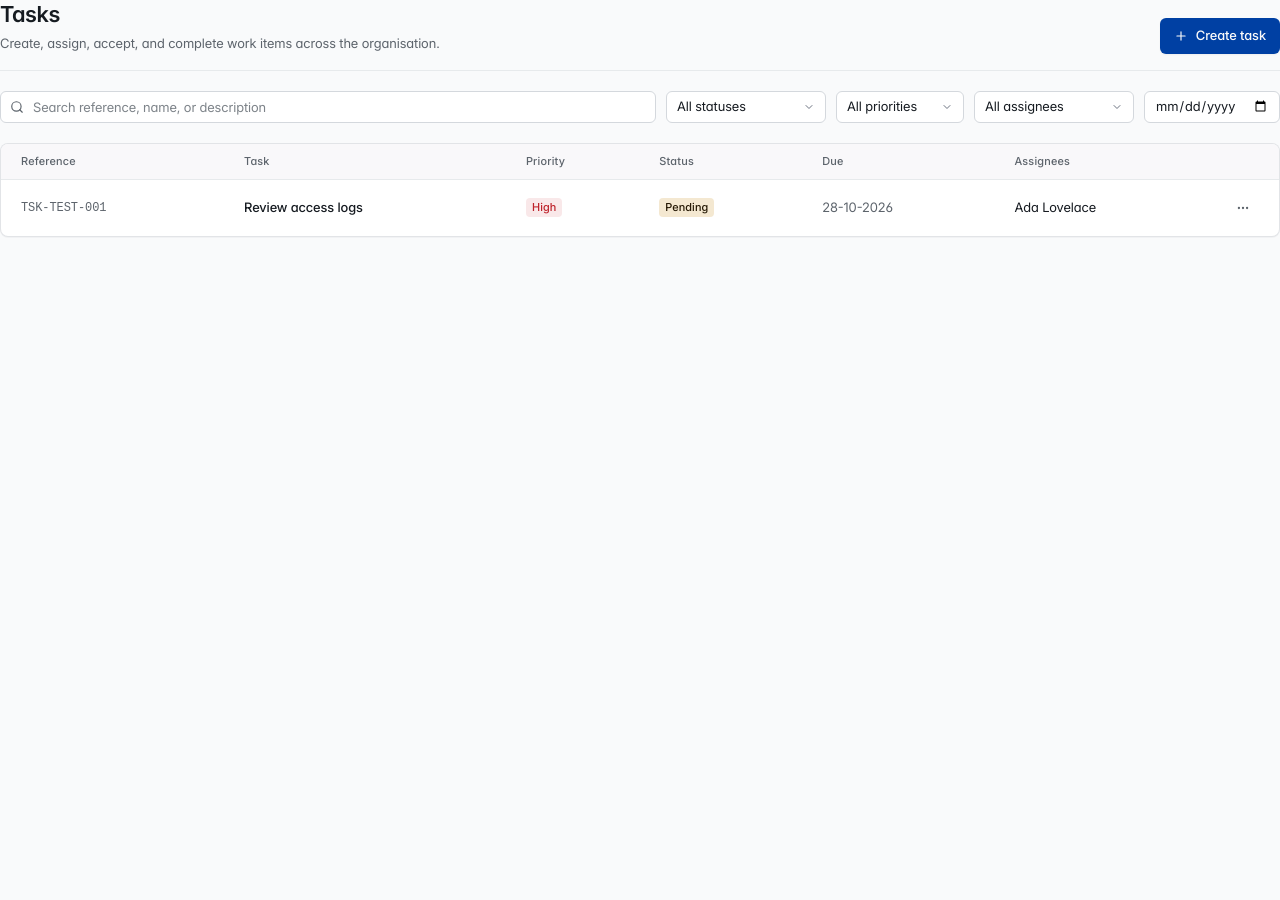
Test case: TasksListPage › opens details from row actions with lifecycle controls
Expected: the text "Review access logs" is shown, [244, 199, 363, 215]
Click the button named "actions for review access logs" at (1243, 208), box [1227, 192, 1259, 224]
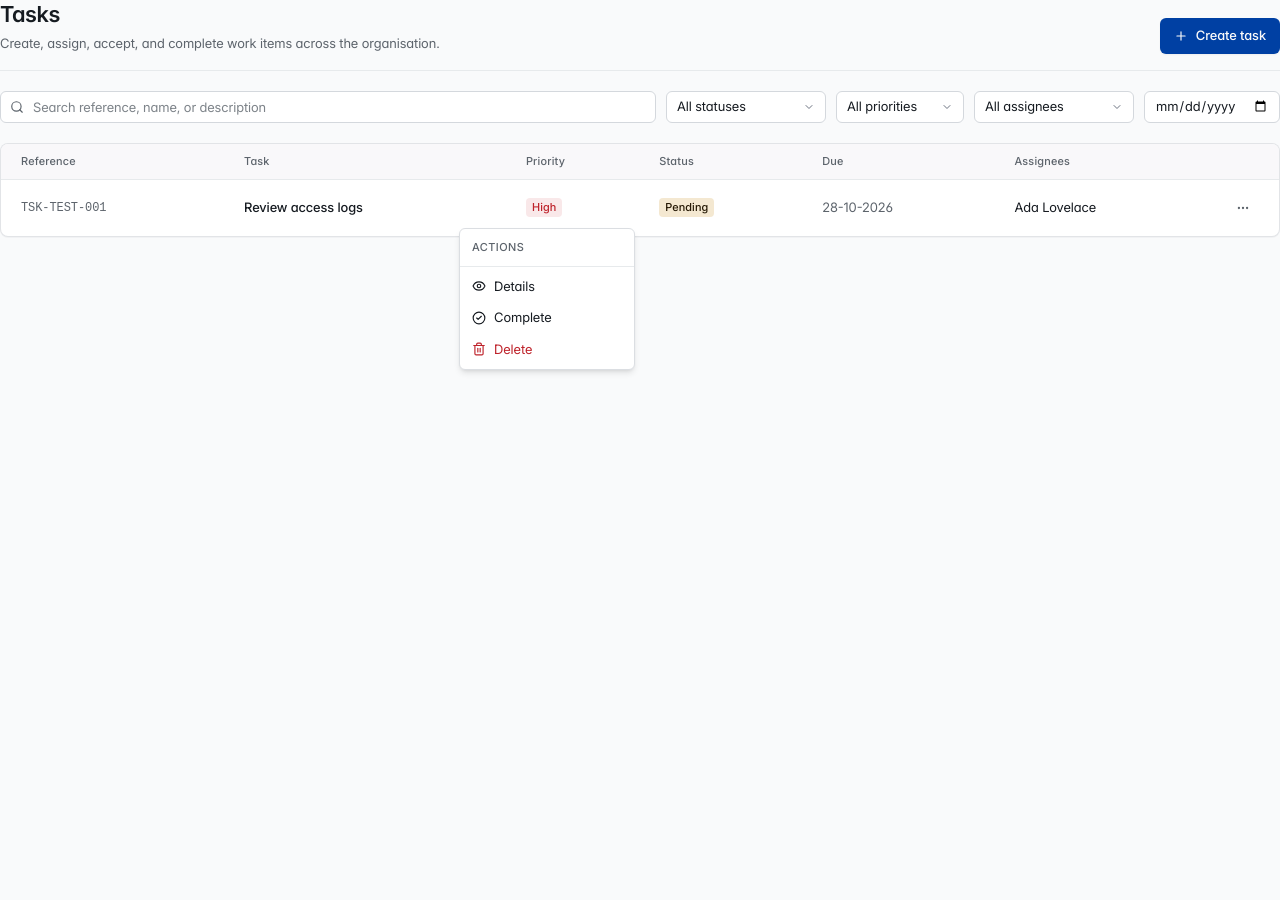
Click the menu item "Details" at (503, 286), box [472, 278, 535, 294]
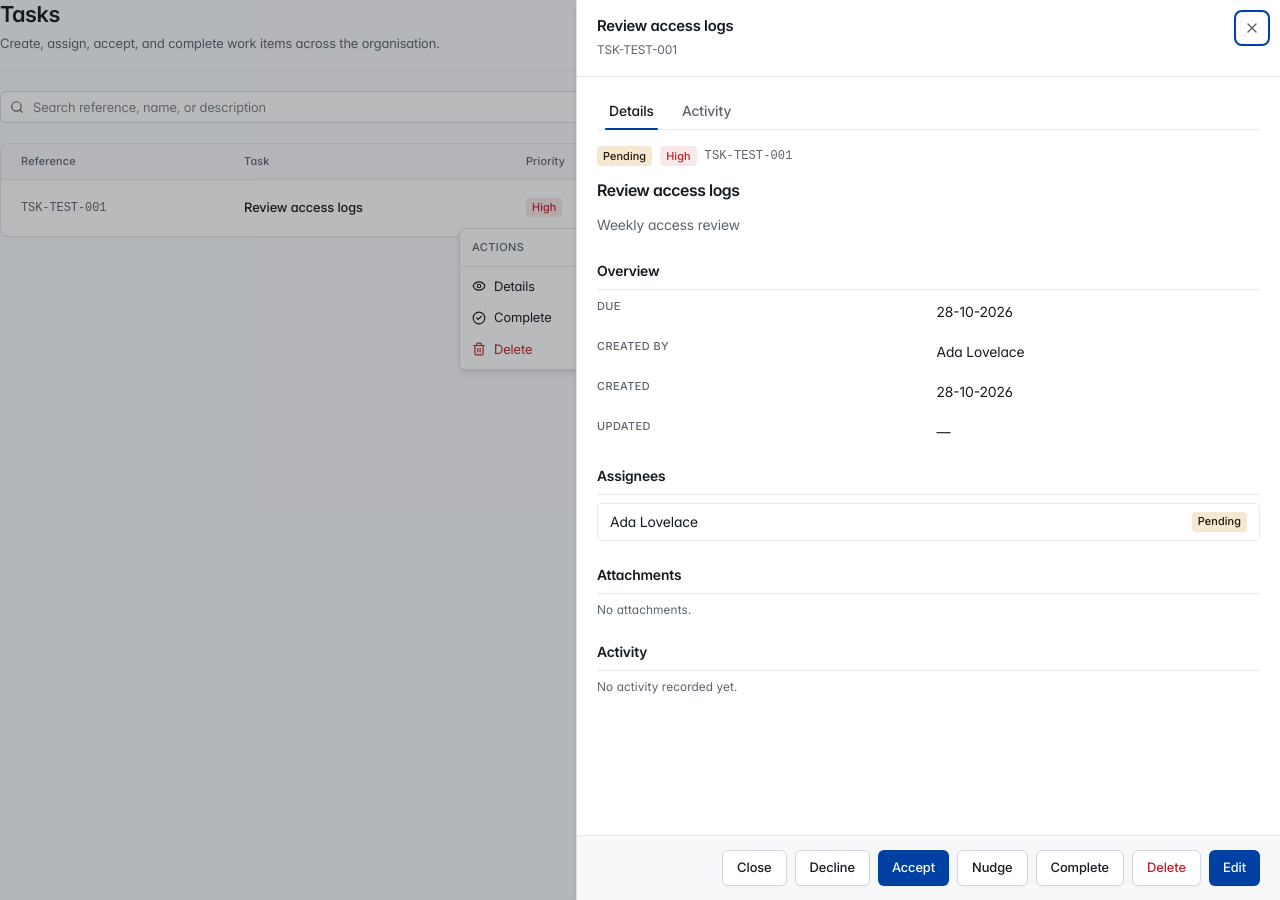
Result: the button "Edit" is shown at [1209, 850, 1260, 886]
Result: the button "Complete" is shown at [1036, 850, 1124, 886]
Result: the button "Accept" is shown at [878, 850, 949, 886]
